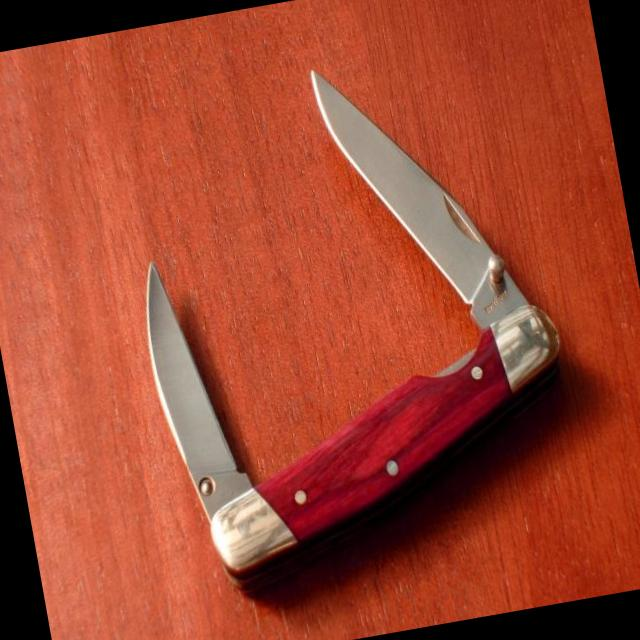Knife: (146, 71, 559, 588)
